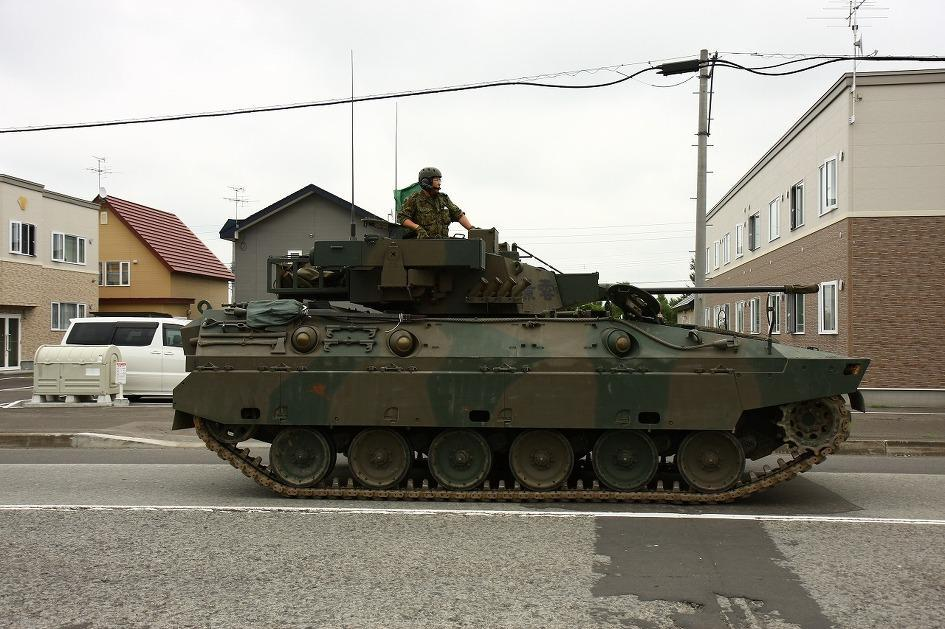MIL_IFV: (165, 221, 870, 503)
